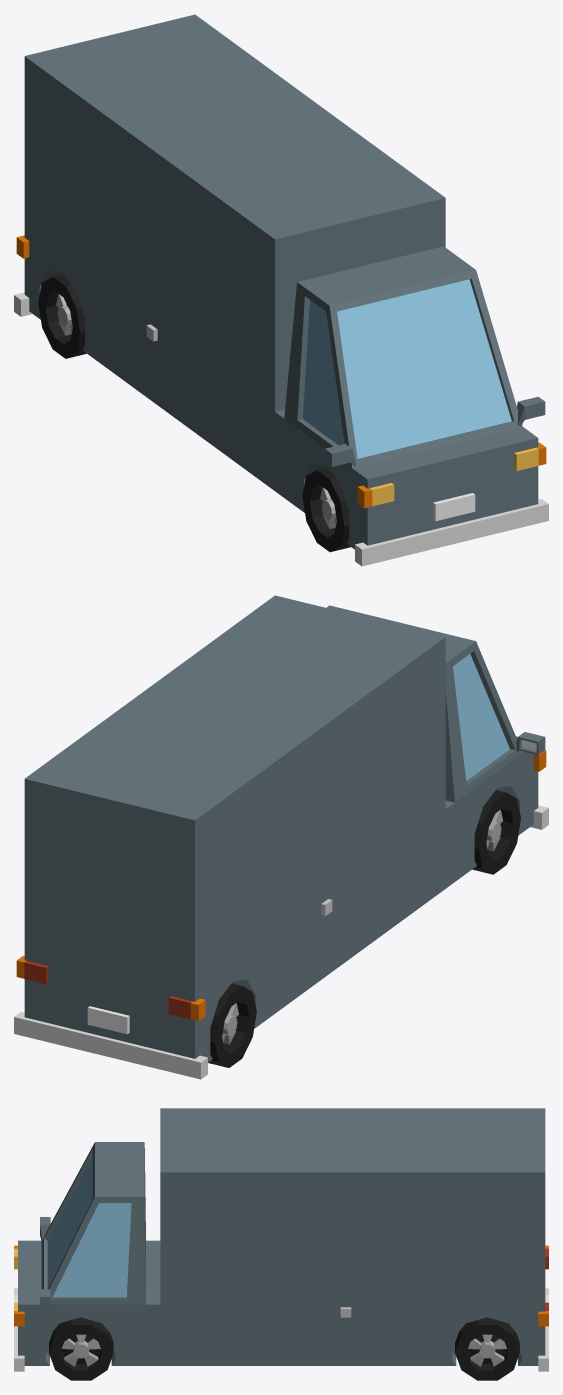
Rendered from bigTrunk.glb.
3 views of the same model, one above another, from view 1: azimuth 30°, elevation 25°; view 2: azimuth 150°, elevation 25°; view 3: azimuth 270°, elevation 25° (orthographic). The views are drawn at different scales.
Visible parts, largest first — view 1: Vehicle.009_Material_0; view 2: Vehicle.009_Material_0; view 3: Vehicle.009_Material_0.
Boxes of the visible parts, x1,y1,x2,y2 form: Vehicle.009_Material_0: (14,14,548,566); Vehicle.009_Material_0: (14,595,548,1079); Vehicle.009_Material_0: (14,1108,548,1380).
Size of the model in its own units: 2.5 by 3.02 by 7.06.
1 material, 1 textured.
